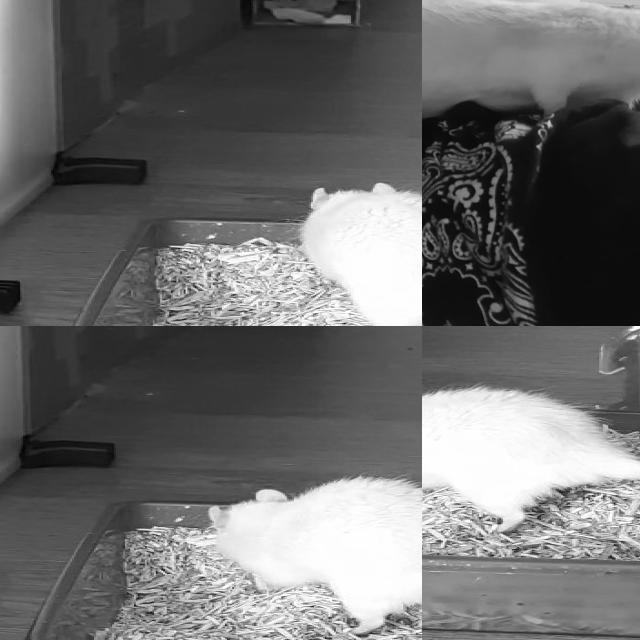rat: (210, 478, 422, 630), (422, 384, 609, 530), (422, 0, 640, 119), (303, 183, 422, 326)
